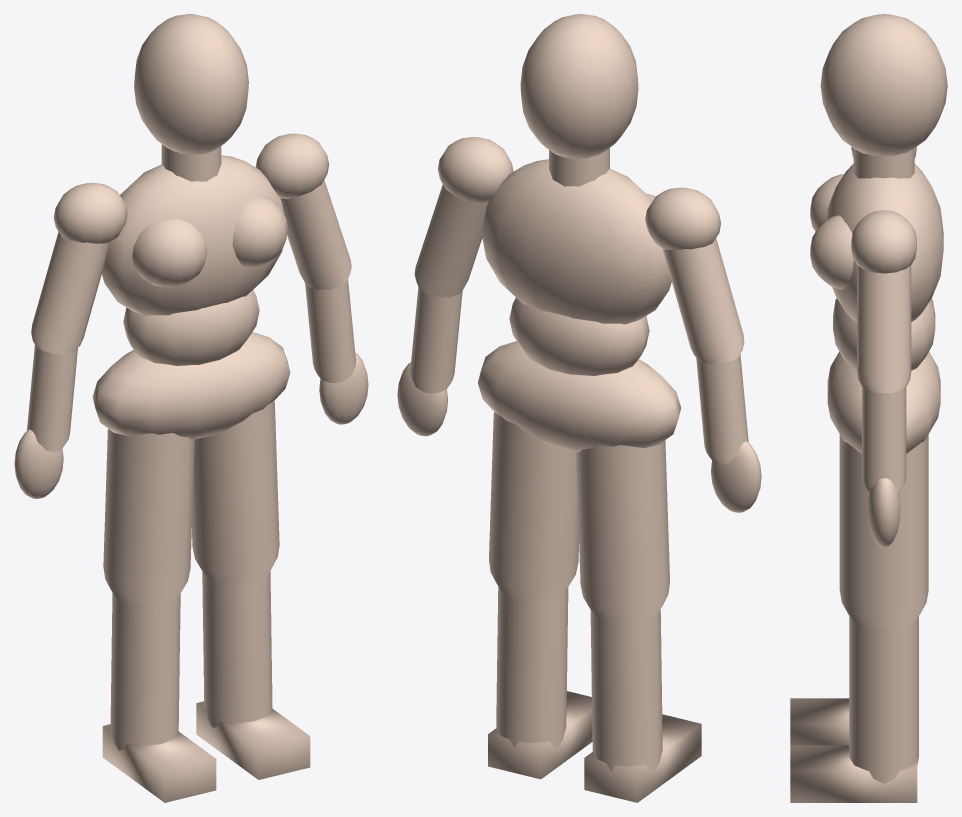
The model's file is female.glb.
3 renders of one model, left to right at view 1: azimuth 30°, elevation 25°; view 2: azimuth 150°, elevation 25°; view 3: azimuth 270°, elevation 25°, orthographic. The views are drawn at different scales.
Parts seen in each view (by area): view 1: Avatar; view 2: Avatar; view 3: Avatar.
Boxes of the visible parts, bbox=[...] form: Avatar: bbox=[14, 14, 368, 802]; Avatar: bbox=[397, 14, 761, 802]; Avatar: bbox=[790, 14, 947, 802].
Bounding box in the file's own units: 0.75 × 1.49 × 0.285.
